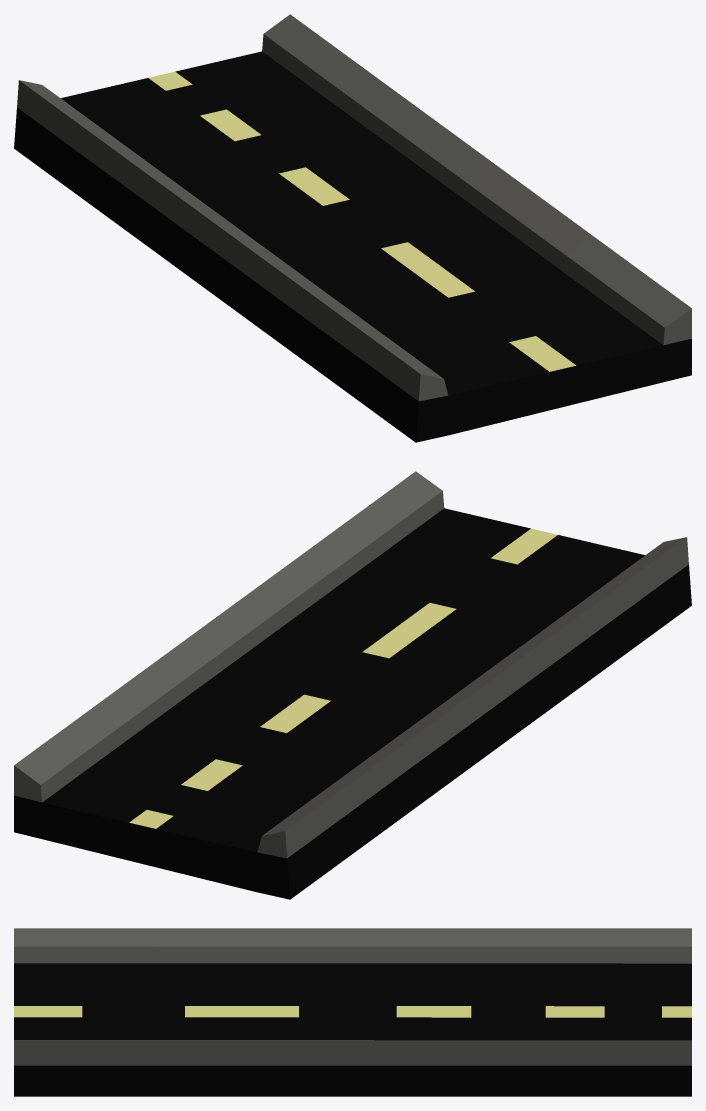
File: Road.fbx
The picture shows the model from 3 angles, top to bottom: view 1: azimuth 30°, elevation 25°; view 2: azimuth 150°, elevation 25°; view 3: azimuth 270°, elevation 25°; orthographic projection. The views are drawn at different scales.
Visible parts, largest first — view 1: pCube1; view 2: pCube1; view 3: pCube1.
Boxes of the visible parts, x1,y1,x2,y2 form: pCube1: (14,14,691,442); pCube1: (14,471,691,899); pCube1: (14,928,691,1096).
Size of the model in its own units: 7.86 by 1.85 by 19.8.
